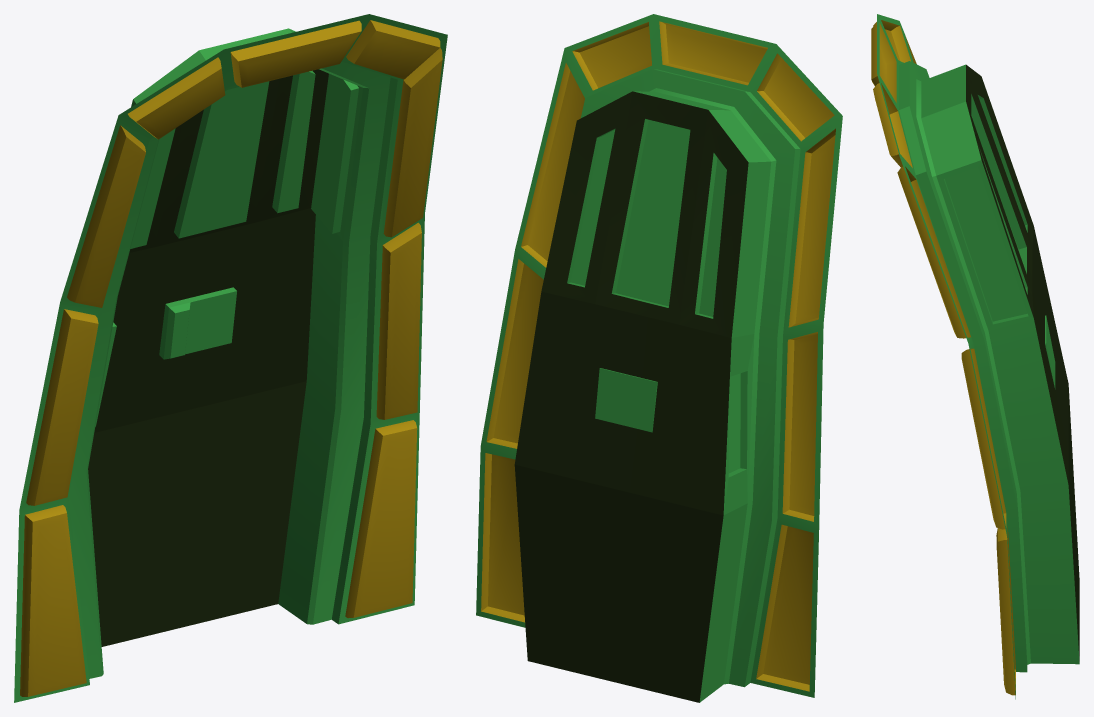
Rendered from door.fbx.
The picture shows the model from 3 angles, left to right: view 1: azimuth 30°, elevation 25°; view 2: azimuth 150°, elevation 25°; view 3: azimuth 270°, elevation 25°; orthographic projection. The views are drawn at different scales.
Parts seen in each view (by area): view 1: door_low001; view 2: door_low001; view 3: door_low001.
Part boxes in pixels (x1,y1,x2,y2): door_low001: (14,14,447,702); door_low001: (476,14,842,702); door_low001: (871,14,1079,699).
Bounding box in the file's own units: 0.8521 × 1.39 × 0.4543.
